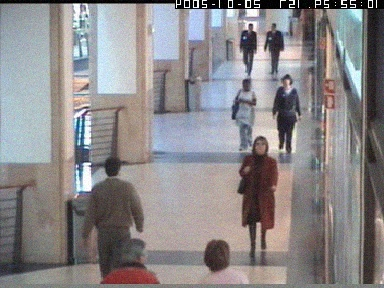person: (82, 157, 144, 284), (236, 135, 278, 257), (197, 238, 252, 283), (105, 238, 158, 284), (271, 73, 299, 153), (233, 78, 257, 149), (264, 23, 284, 74), (239, 24, 259, 74)
